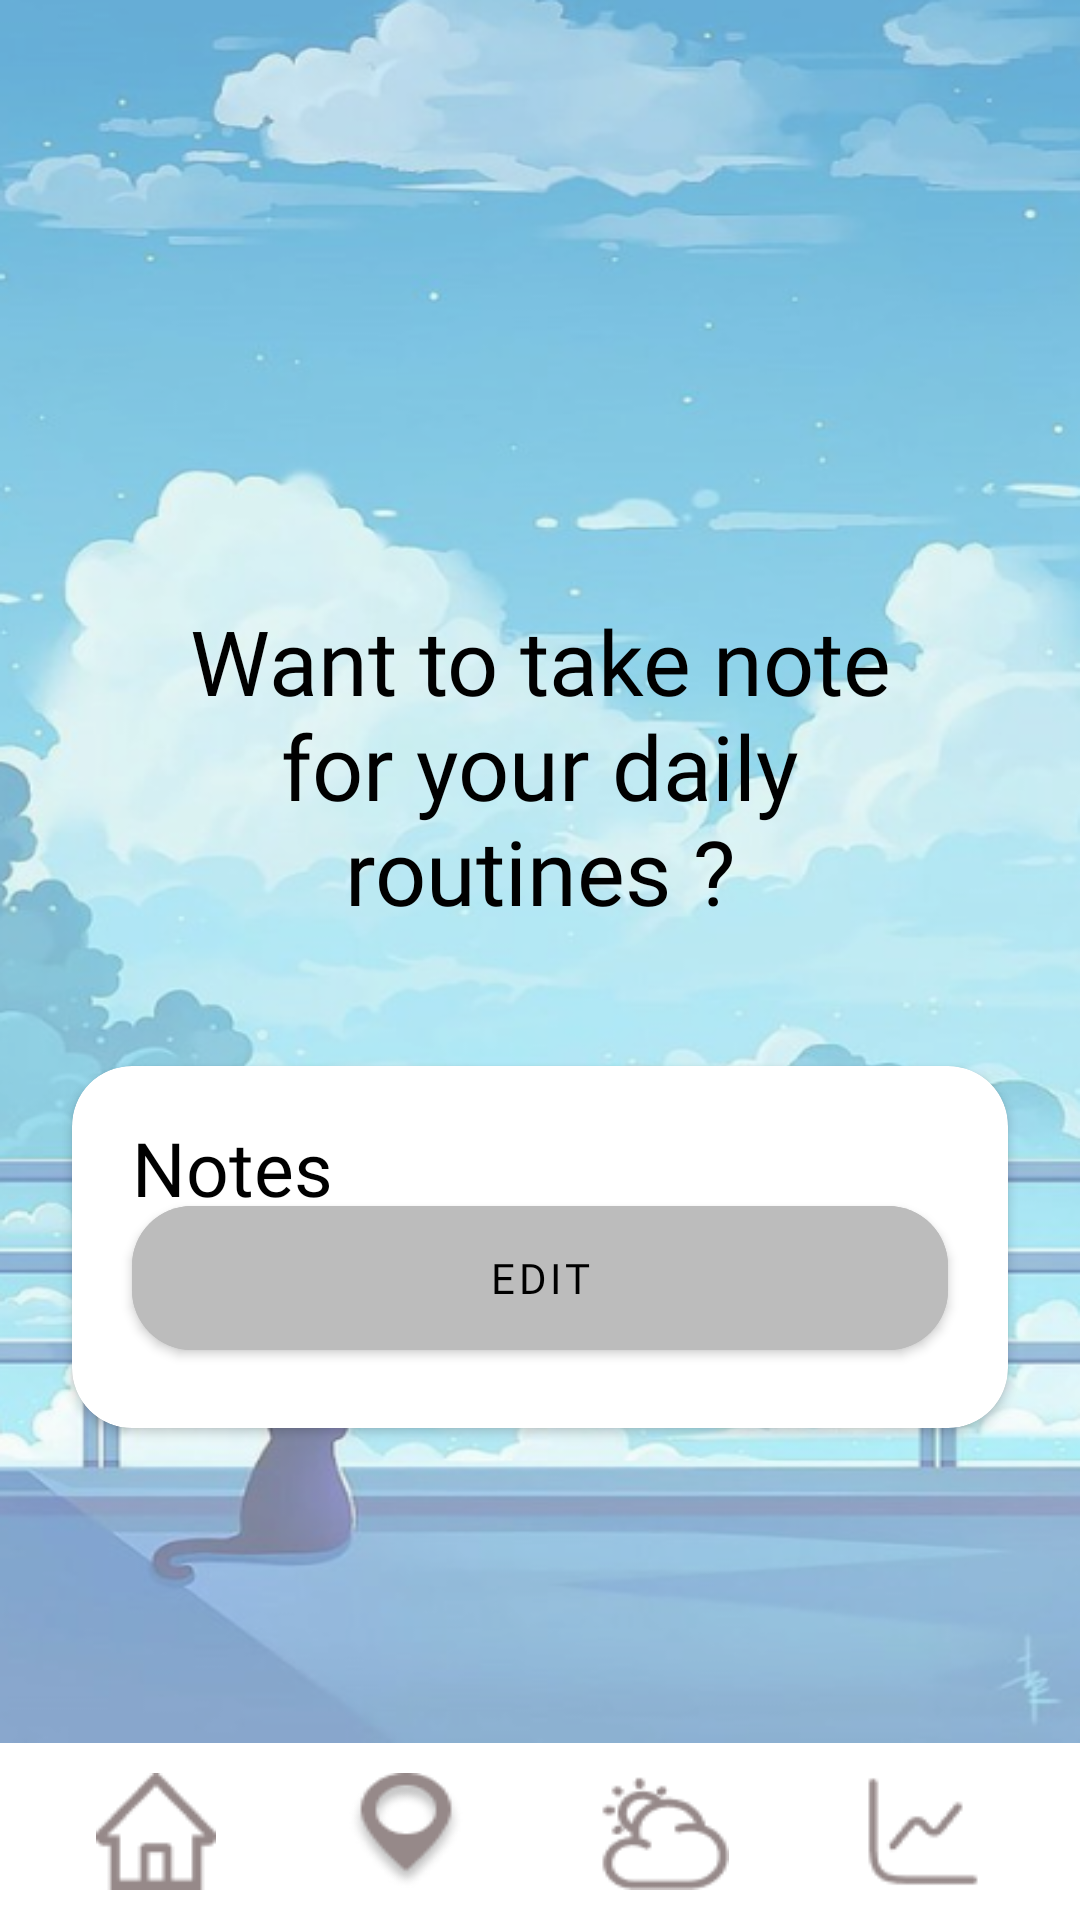

Icons on this 1080px×1920px Android screen, each with the point to tap as point (x, y):
cloud: point (665, 1834)
diagram: point (923, 1831)
home: point (156, 1831)
map: point (406, 1825)
